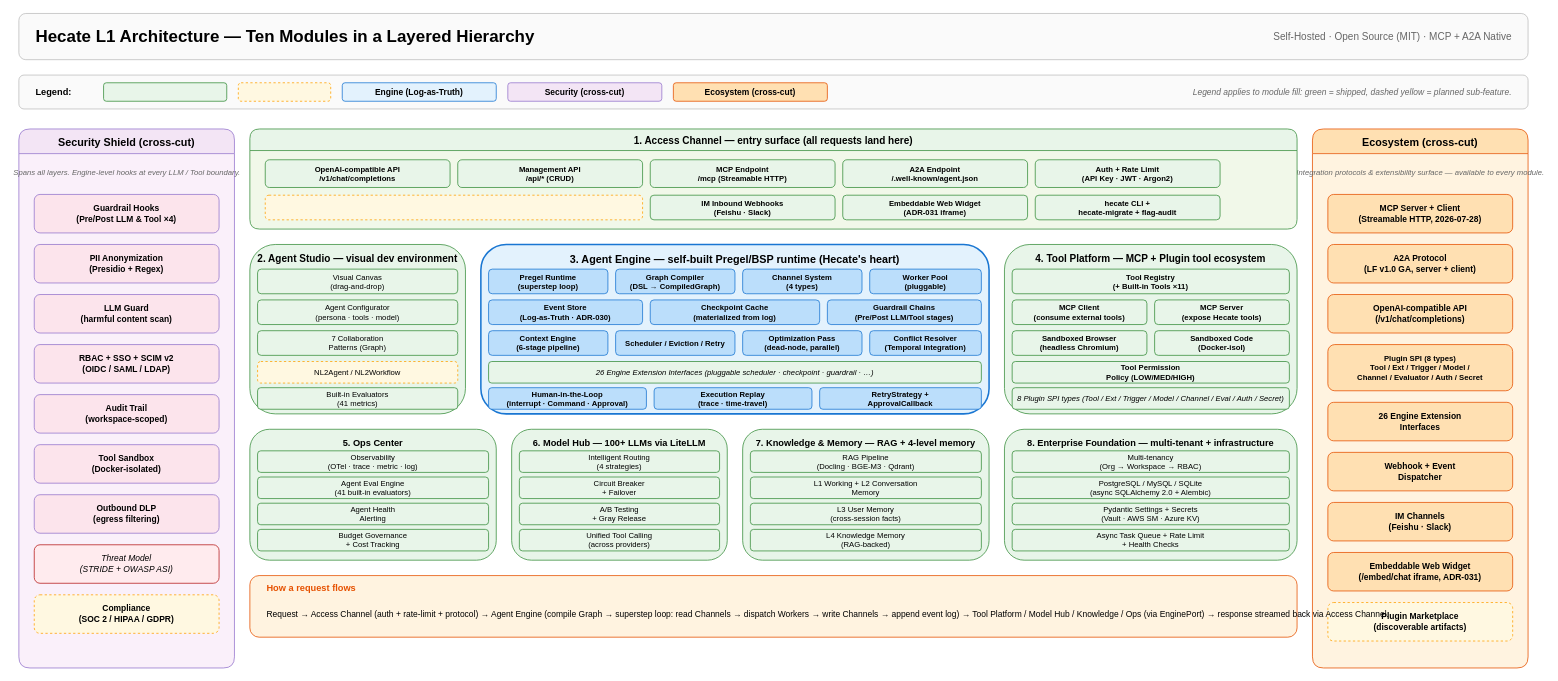
The diagram is 1558 pixels wide and 681 high, and some of its shapes have lost their labels. The shapes that lost their labels are listed below. From the top down, each one's centre as x and y in pixels, then its label:
the point at 165,91: Implemented
the point at 284,91: Planned
the point at 453,207: Dashboard (React · Next.js · React Flow)
